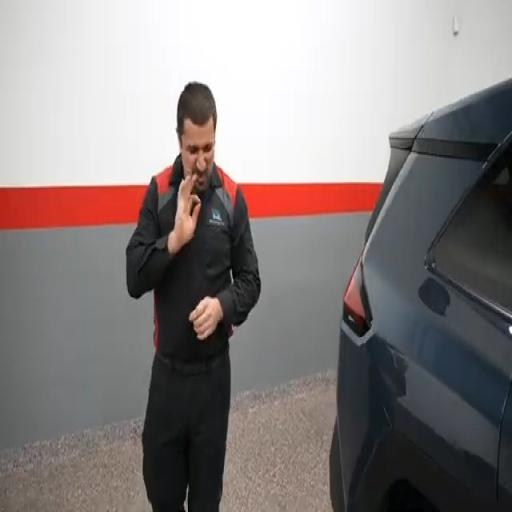bumper: (330, 323, 392, 511)
door: (428, 137, 511, 510)
taillight: (343, 258, 371, 337)
tire: (329, 421, 345, 511)
window: (432, 151, 511, 312)
